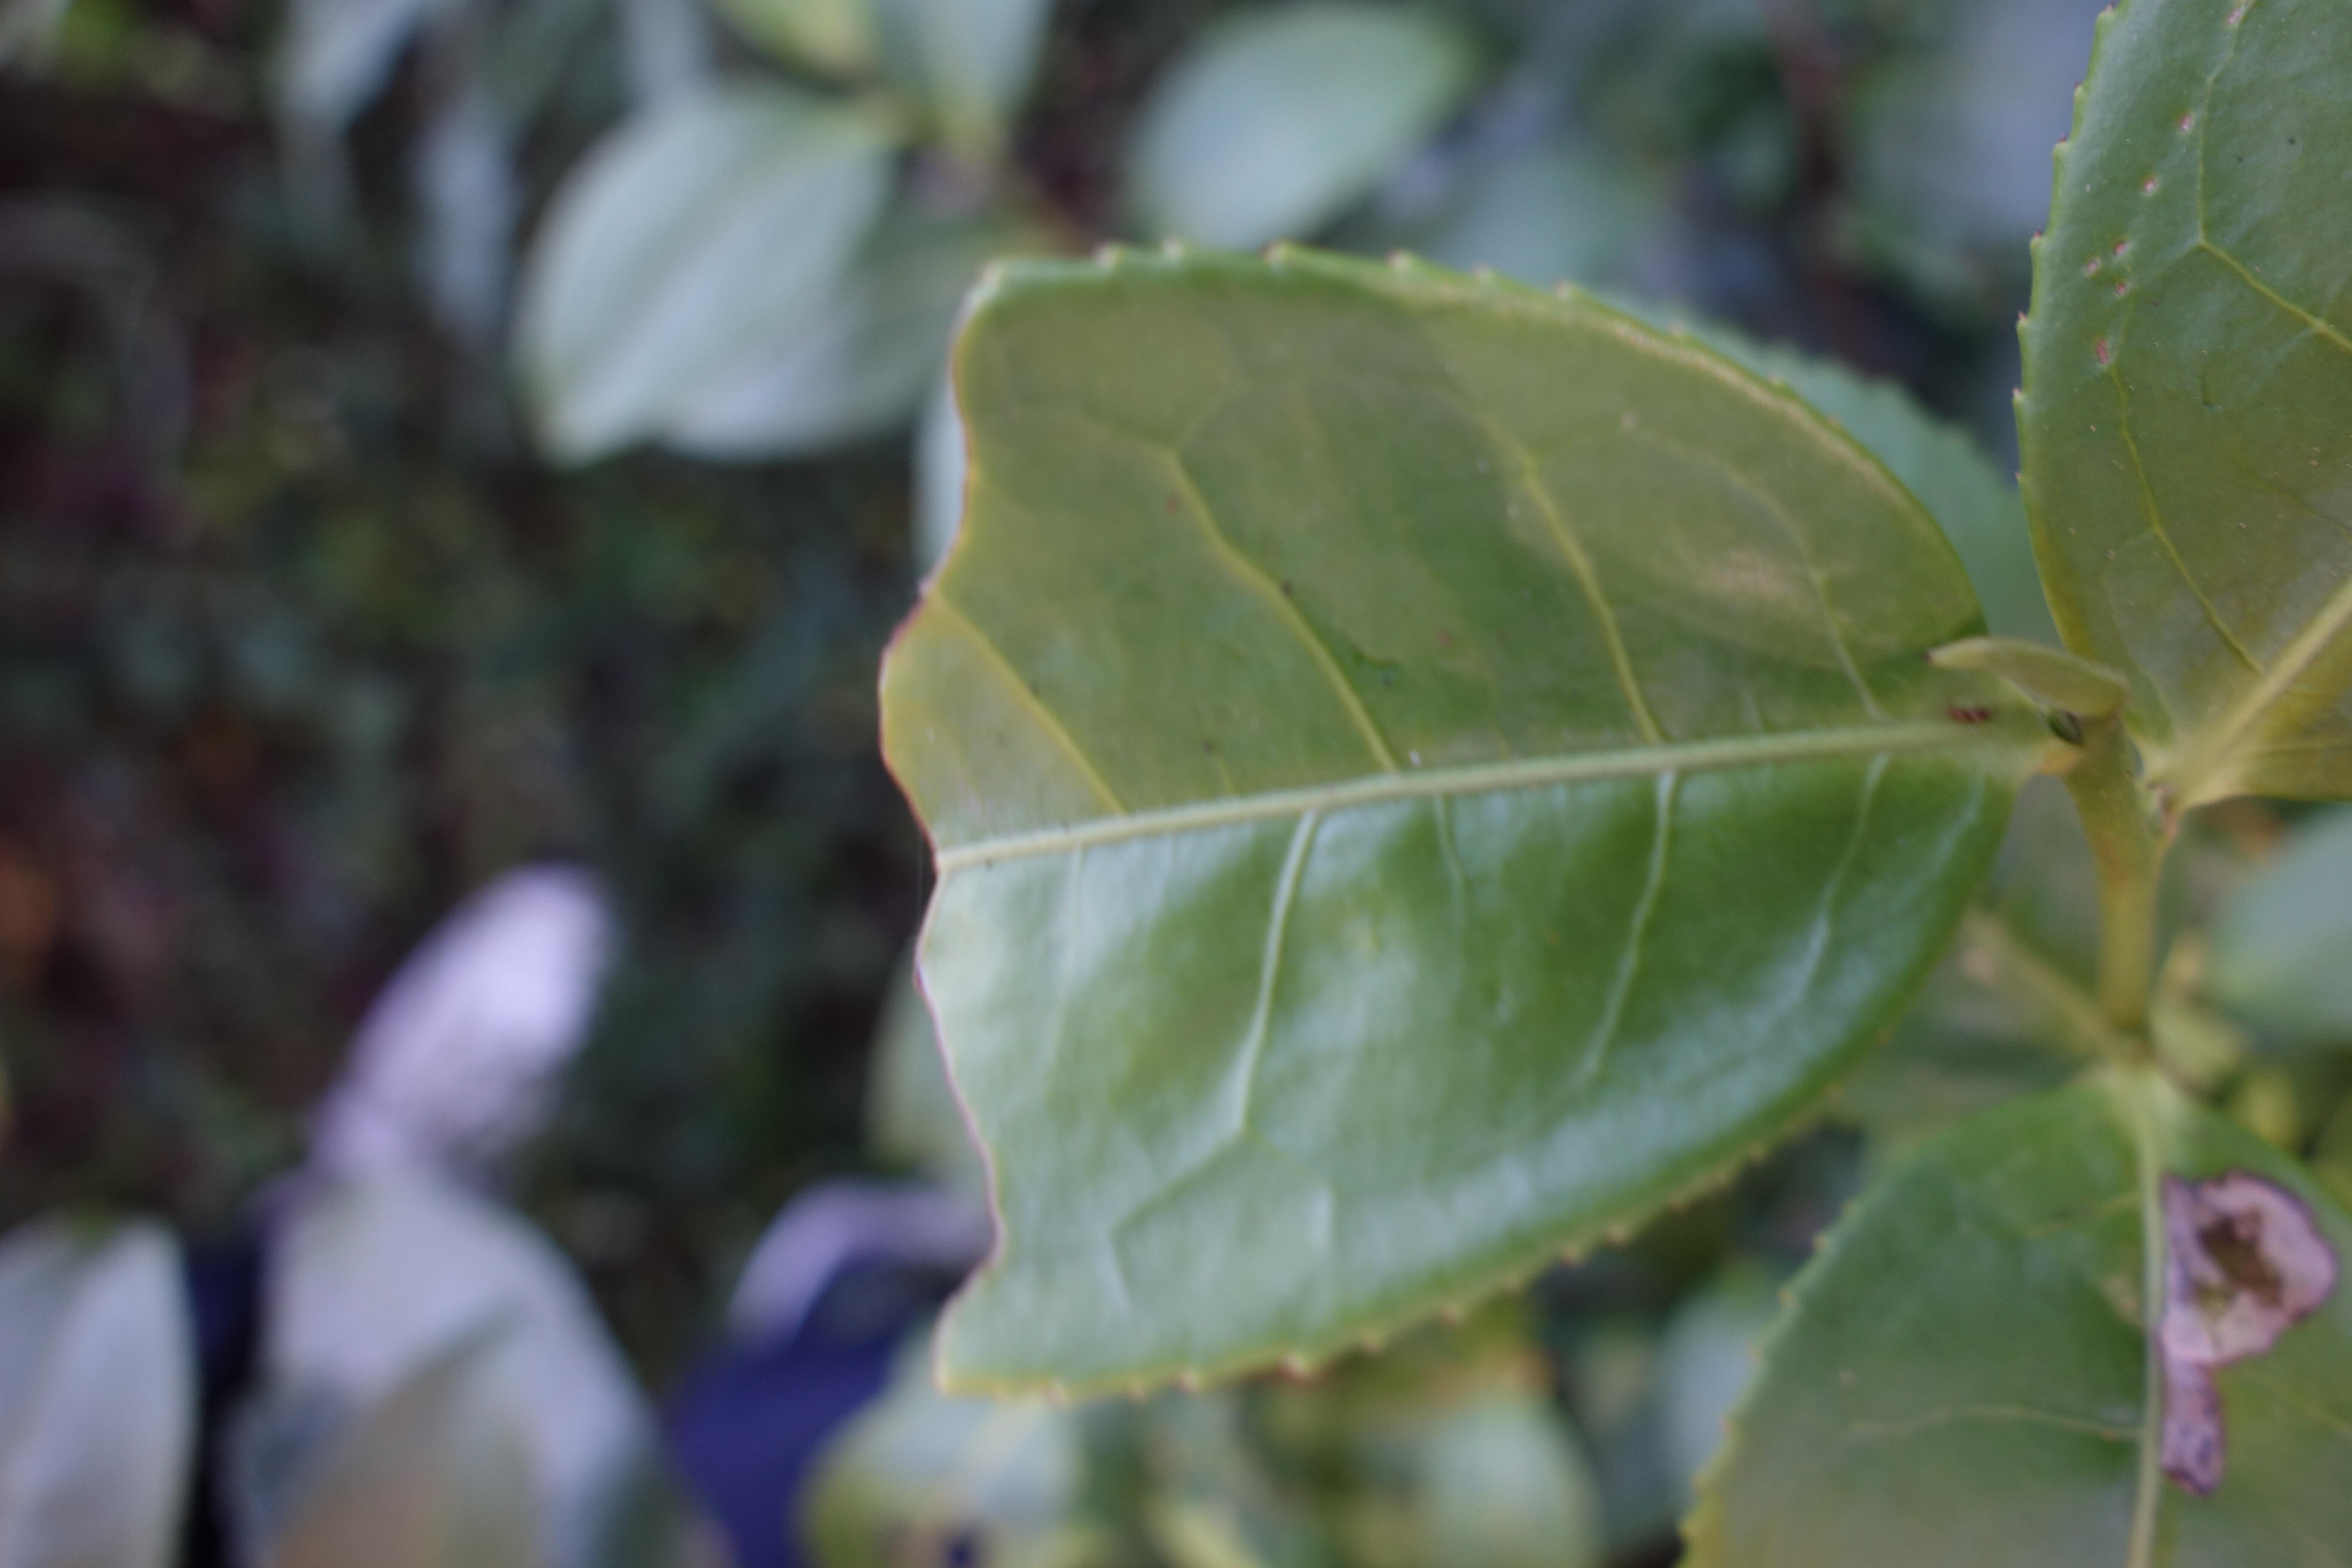chihuo_high: (870, 236, 2018, 1405)
